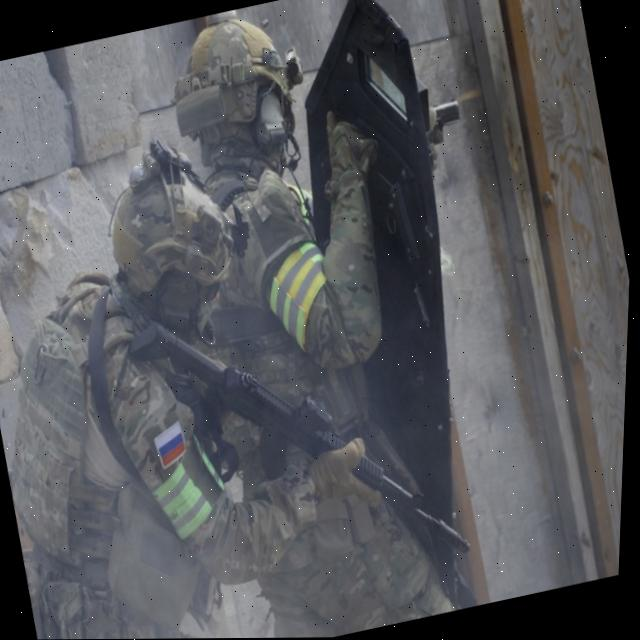firearm: (117, 266, 483, 616)
pistol: (431, 100, 462, 129)
